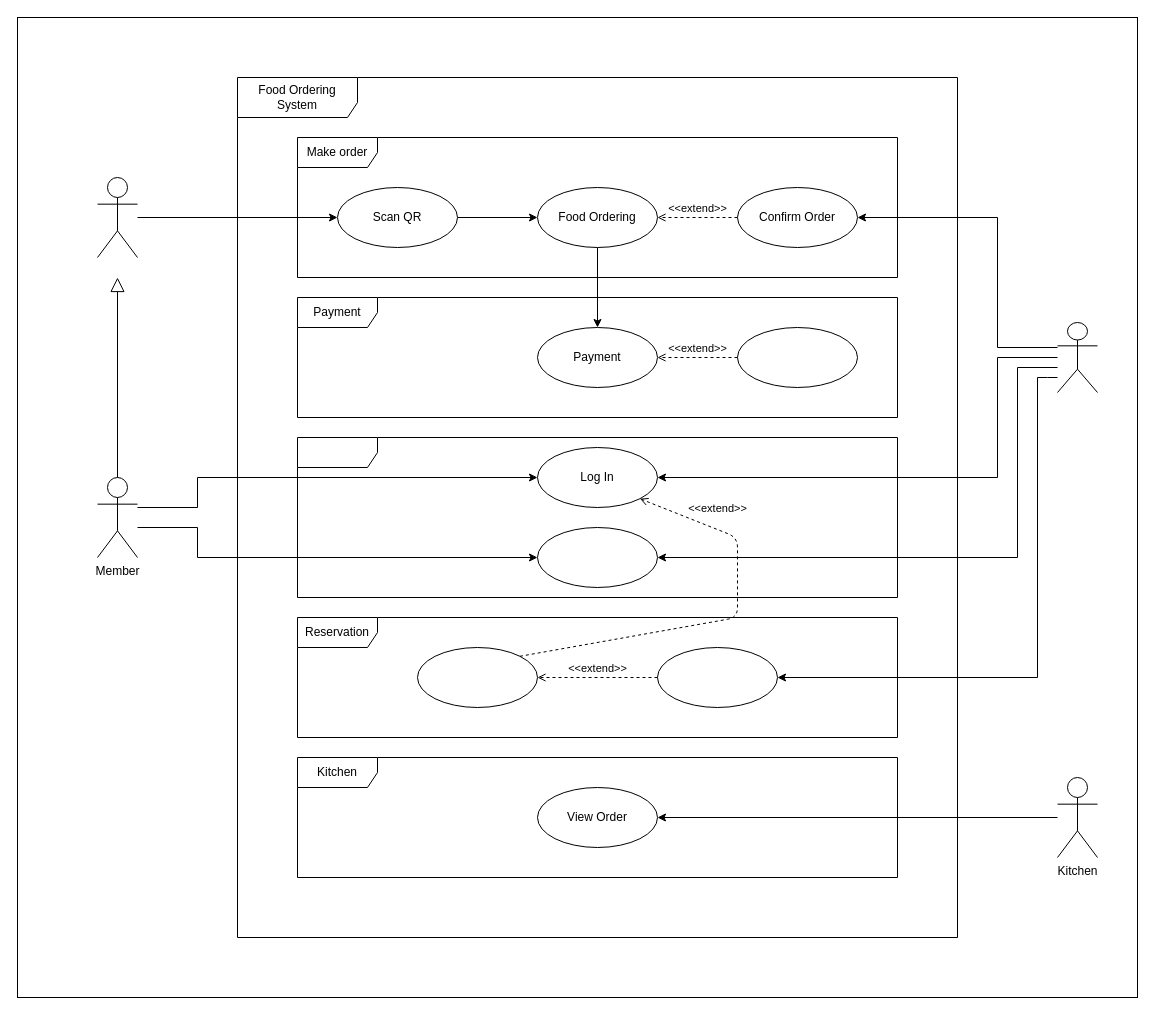
Some shapes in this 1155 by 1015 pixel diagram are drawn without their labels. The shapes that lost their labels are listed below. From the top down, each one's box as (x1, y1, x2, y2) in pixels, then its label:
(96, 176, 138, 258): Guest
(736, 326, 858, 388): Feedback
(1056, 322, 1098, 392): Clerk
(296, 436, 898, 598): Account
(536, 526, 658, 588): Log Out
(416, 646, 538, 708): Reserve
(656, 646, 778, 708): Prepare
